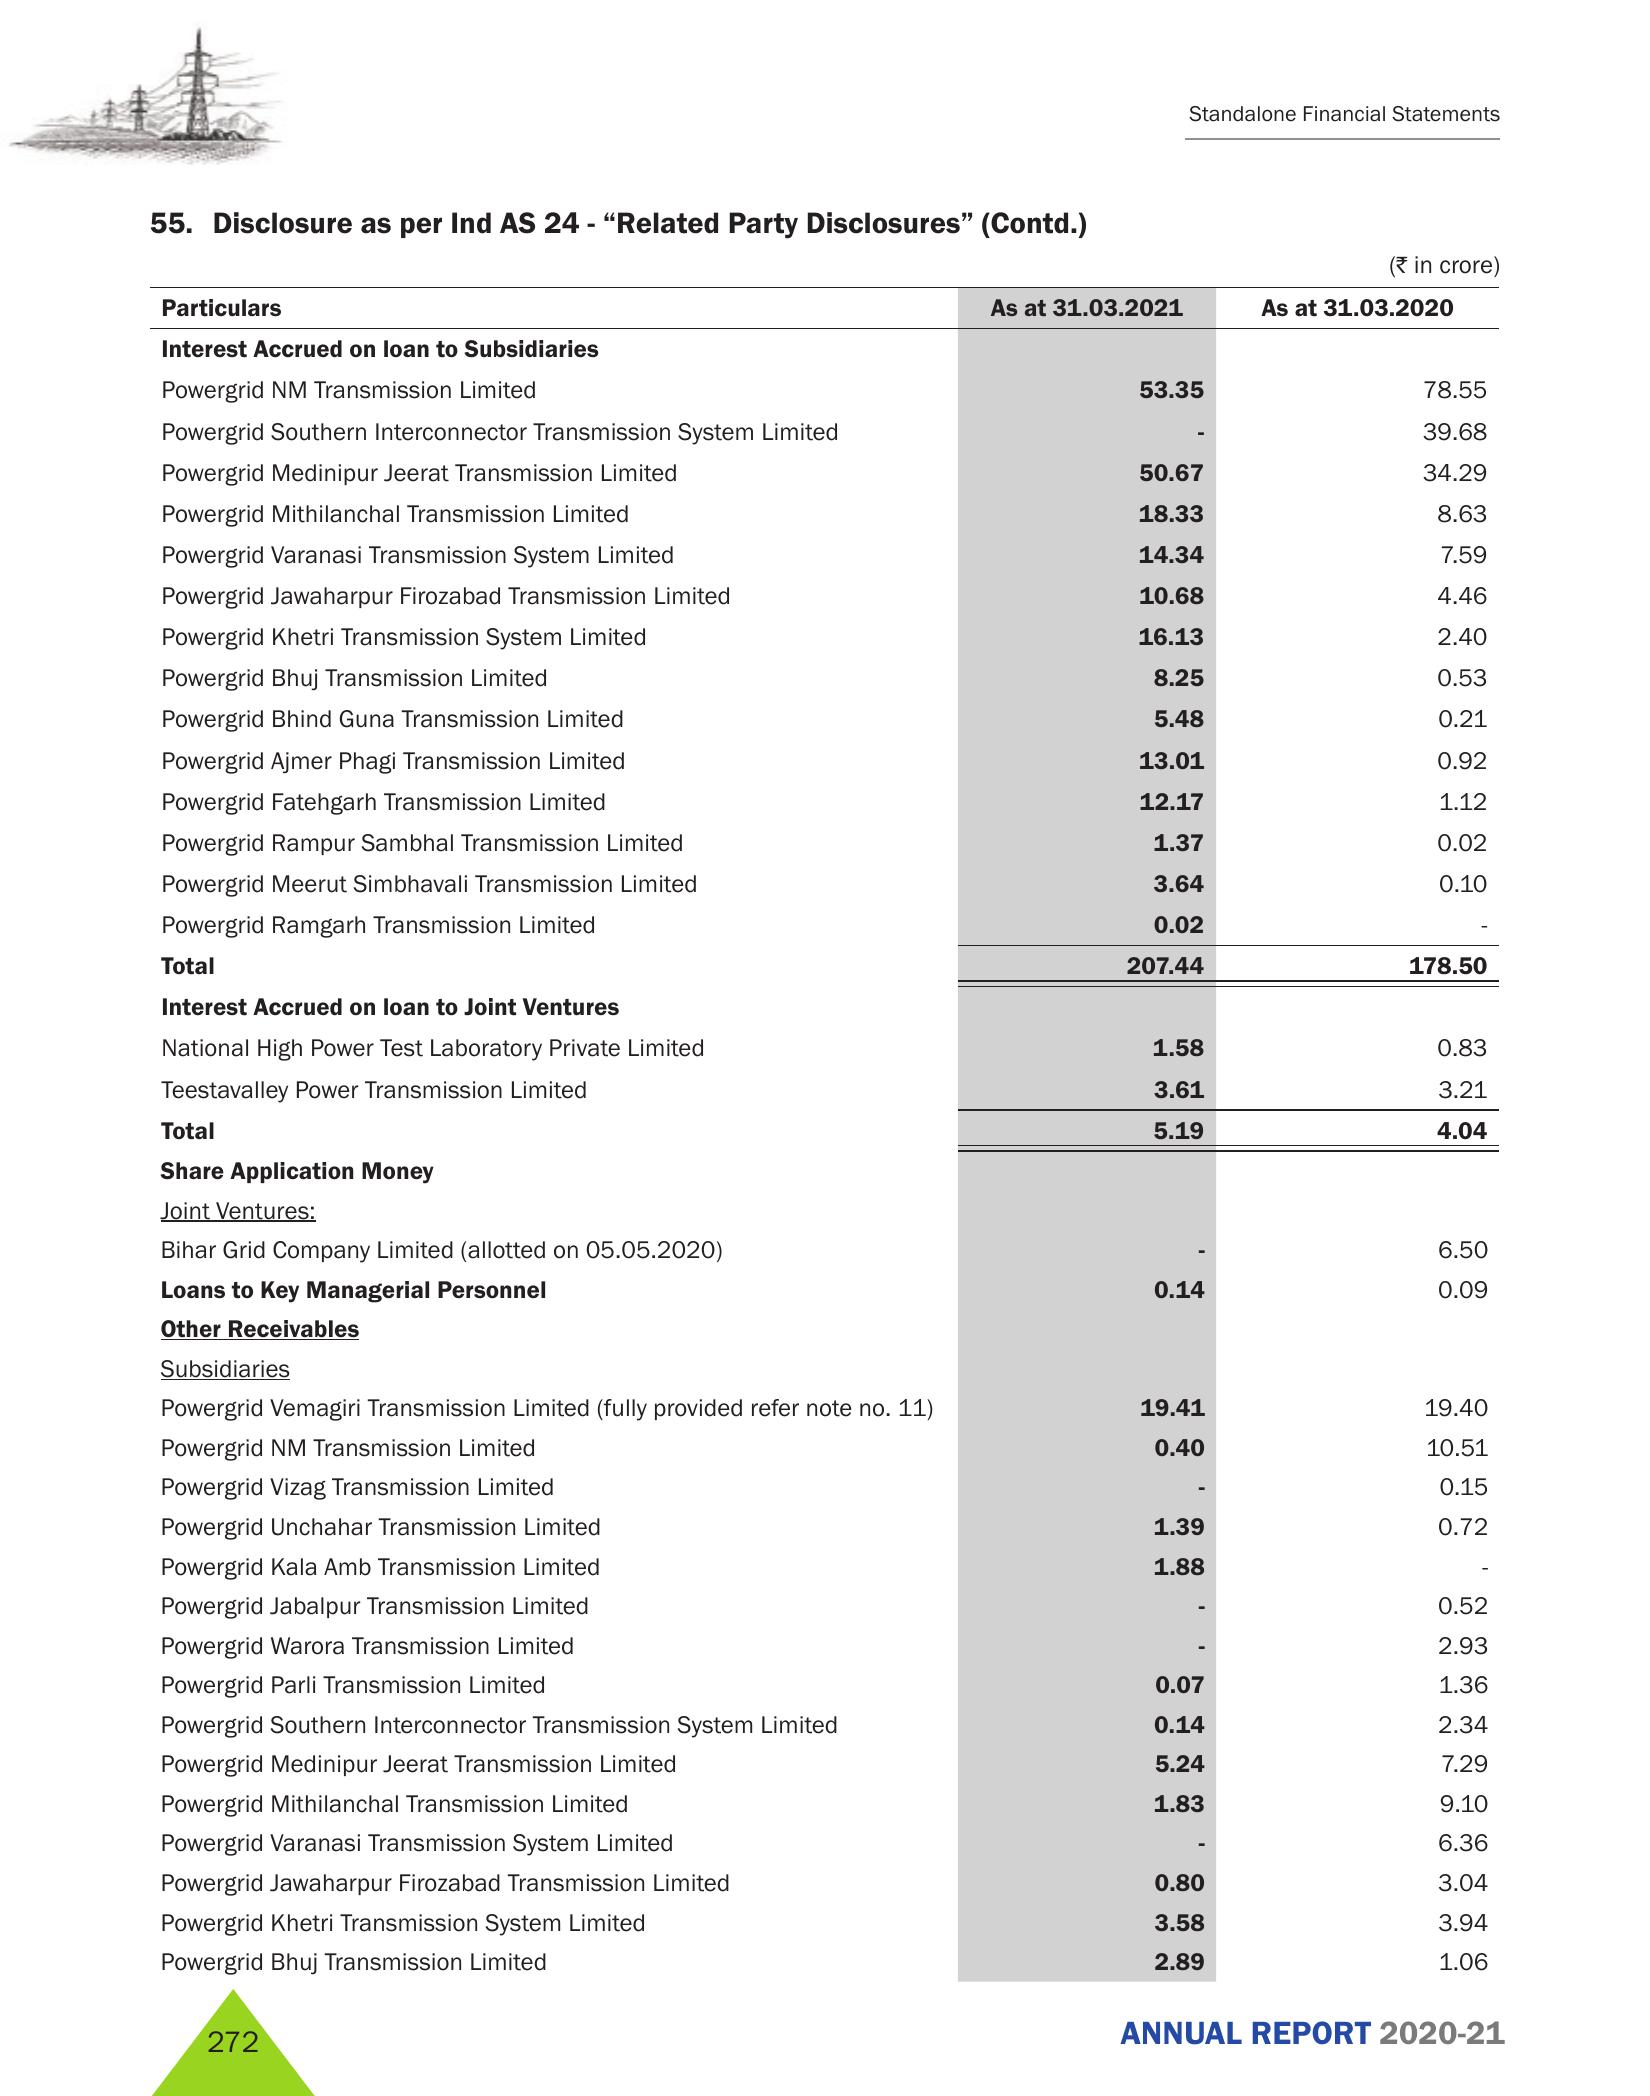Footer: (0, 1974, 1650, 2096)
Header: (0, 0, 1650, 168)
Table: (126, 282, 1528, 1991)
